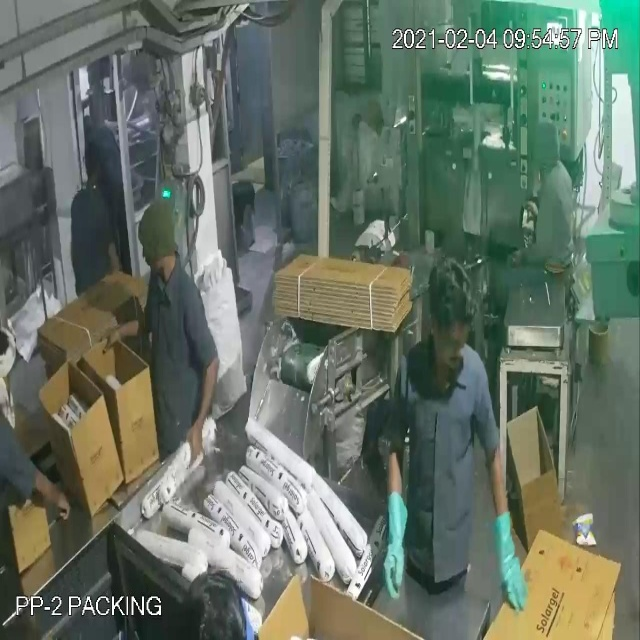Guantes: (486, 501, 536, 615), (384, 479, 422, 618)
Sin_guantes: (172, 334, 230, 470), (83, 288, 162, 365), (24, 452, 83, 552)
